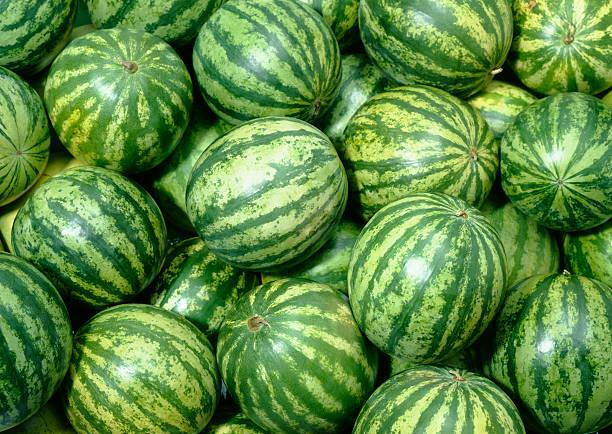watermelon: (353, 185, 502, 359), (187, 116, 346, 271), (223, 274, 369, 434), (44, 26, 193, 179), (343, 84, 503, 220), (13, 165, 168, 305), (70, 299, 218, 434), (193, 0, 343, 126), (505, 268, 612, 434), (356, 0, 517, 103), (500, 93, 612, 237), (345, 356, 532, 434), (2, 251, 70, 434), (517, 2, 612, 96), (0, 65, 50, 213), (162, 237, 235, 331), (3, 0, 71, 76), (89, 0, 204, 41)
